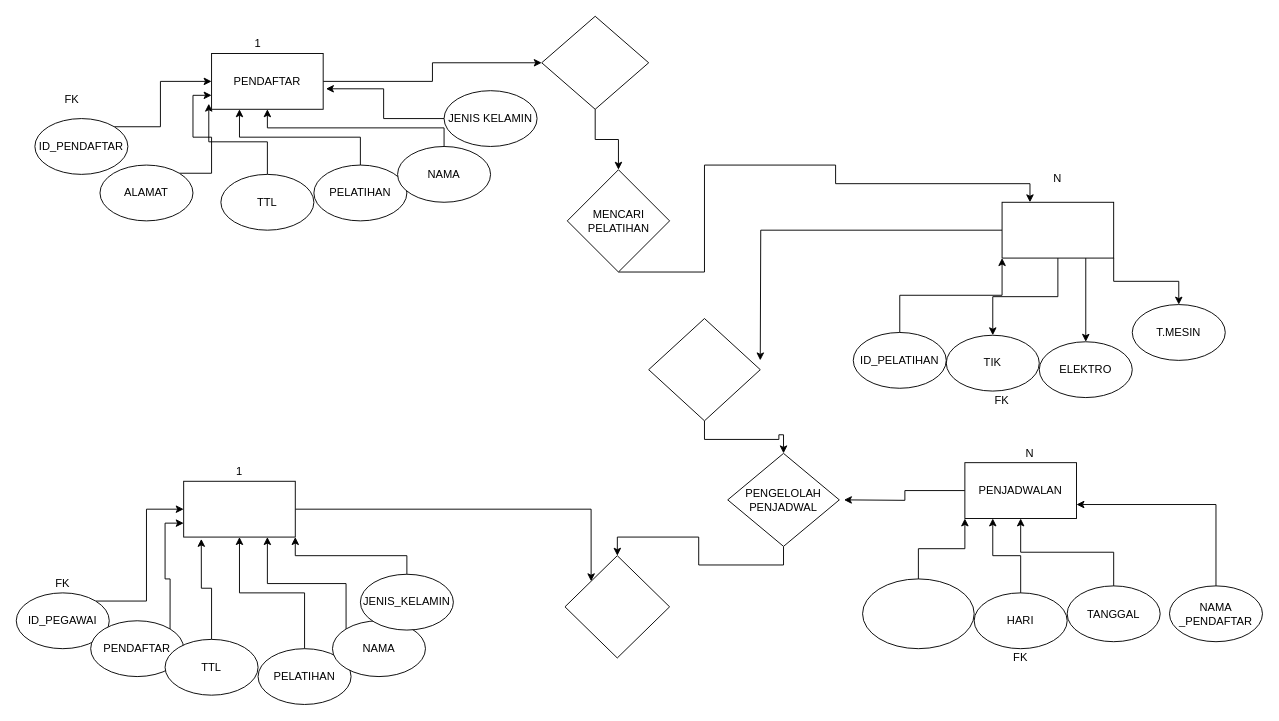
Some shapes in this 1279 by 721 pixel diagram are drawn without their labels. Each missing label, with the box of its shape:
ID_PENJADWALAN: (862, 578, 974, 649)
LOGIN: (541, 15, 649, 109)
MENGELOLAH PELATIHAN: (648, 318, 760, 421)
PEGAWAI: (183, 480, 295, 537)
PEKATIHAN: (1001, 201, 1114, 258)
PENGELOLAH PEGAWAI: (564, 555, 670, 658)
